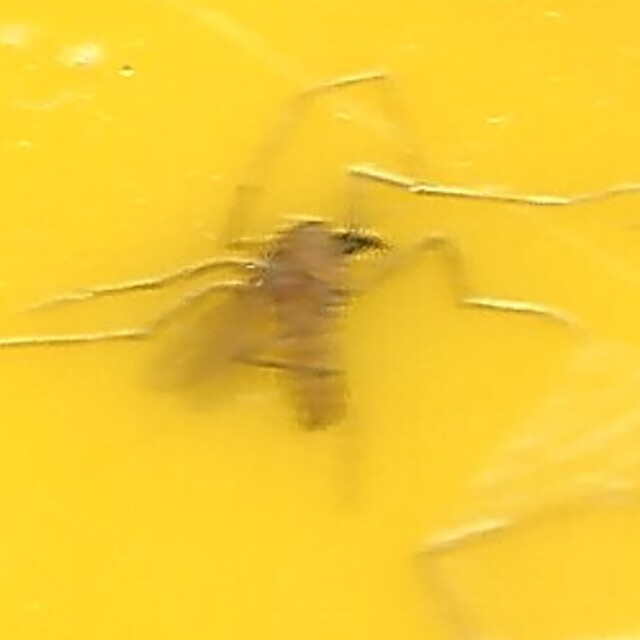Nematocera: (257, 201, 383, 439)
